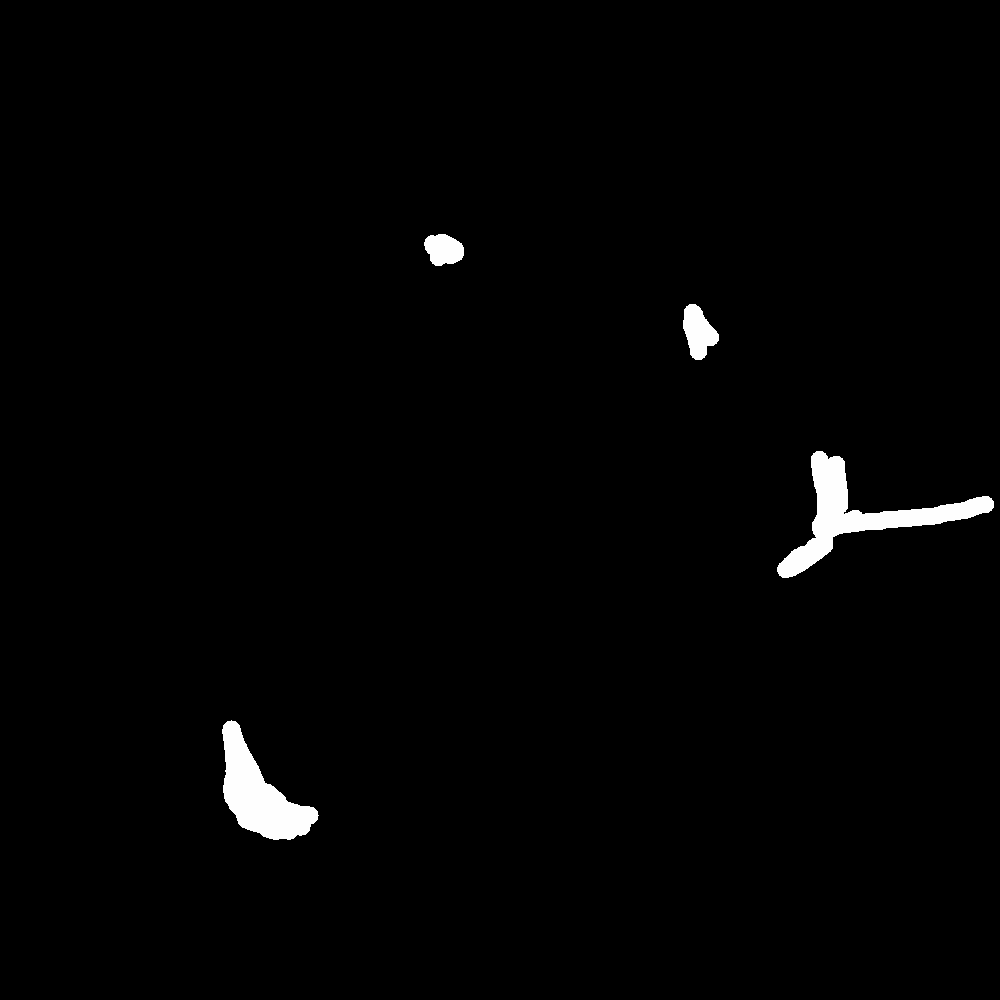illegal: (228, 770, 494, 910)
